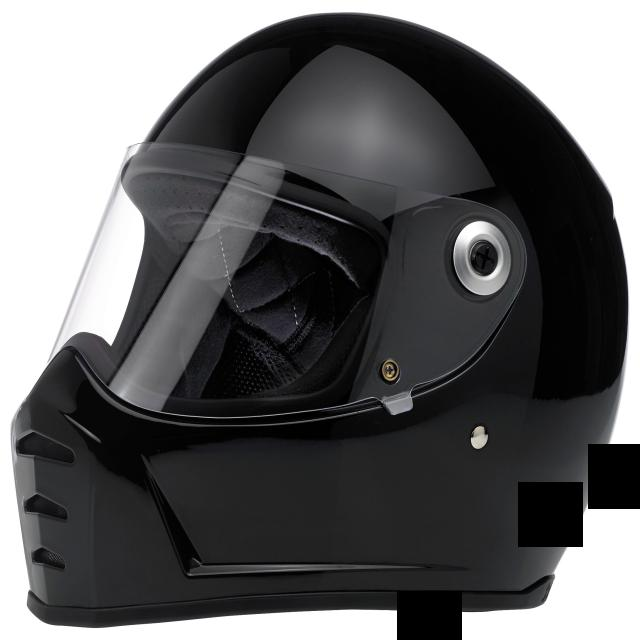Helmet: (11, 15, 628, 627)
